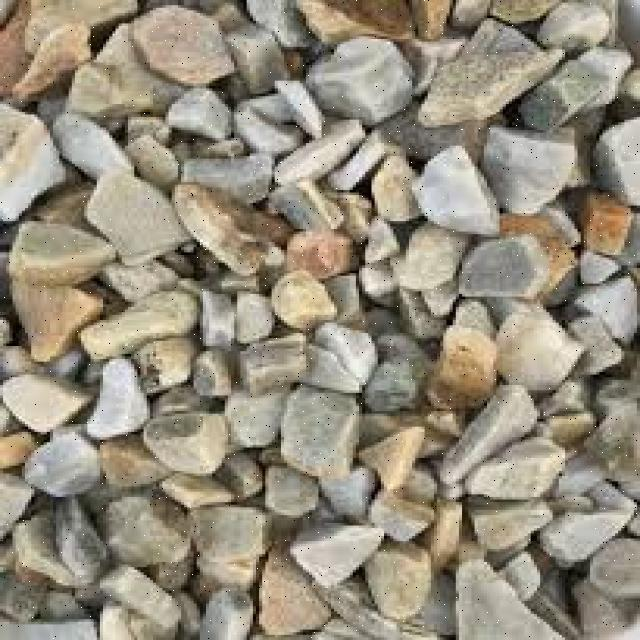Metamorphic: (3, 3, 631, 632)
